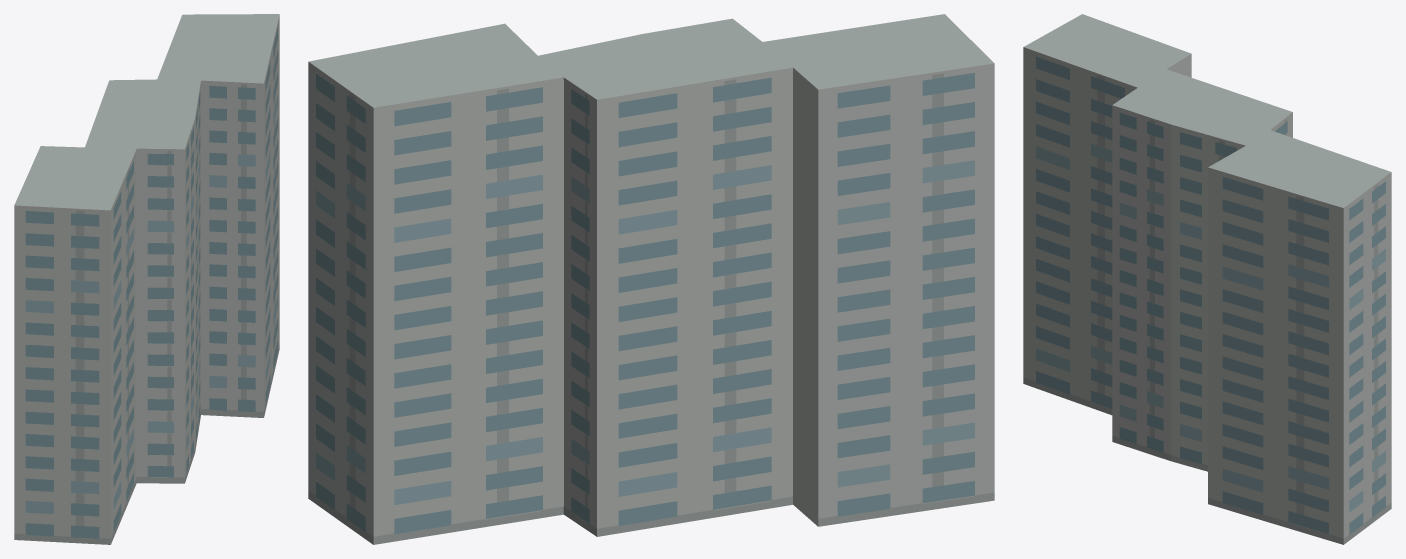
File: residential-d15e56f9-c64e-4760-b373-40ed1ef02028.glb
3 views of the same model, side by side, from view 1: azimuth 30°, elevation 25°; view 2: azimuth 150°, elevation 25°; view 3: azimuth 270°, elevation 25° (orthographic). The views are drawn at different scales.
Visible parts, largest first — view 1: residential-d15e56f9-c64e-4760-b373-40ed1ef02028.tmp; view 2: residential-d15e56f9-c64e-4760-b373-40ed1ef02028.tmp; view 3: residential-d15e56f9-c64e-4760-b373-40ed1ef02028.tmp.
Part boxes in pixels (left/top/right/bottom): residential-d15e56f9-c64e-4760-b373-40ed1ef02028.tmp: left=14, top=14, right=279, bottom=544; residential-d15e56f9-c64e-4760-b373-40ed1ef02028.tmp: left=308, top=14, right=994, bottom=544; residential-d15e56f9-c64e-4760-b373-40ed1ef02028.tmp: left=1023, top=14, right=1391, bottom=544.
Size of the model in its own units: 56.58 by 45.75 by 45.34.
